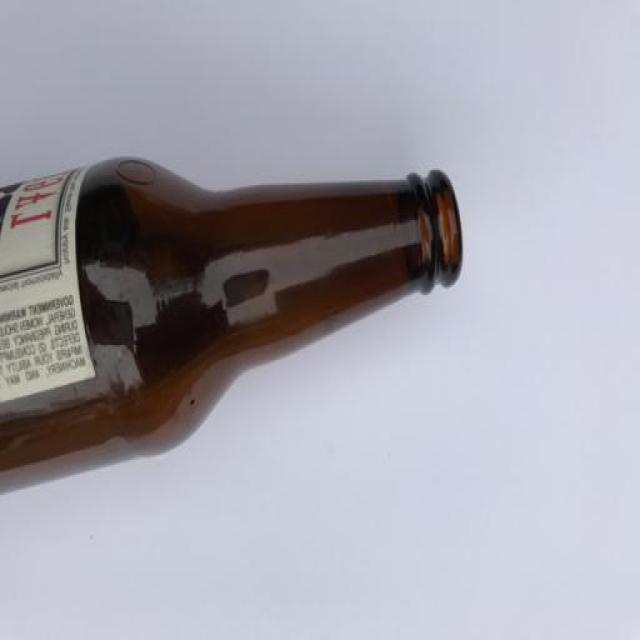glass: (0, 153, 464, 500)
